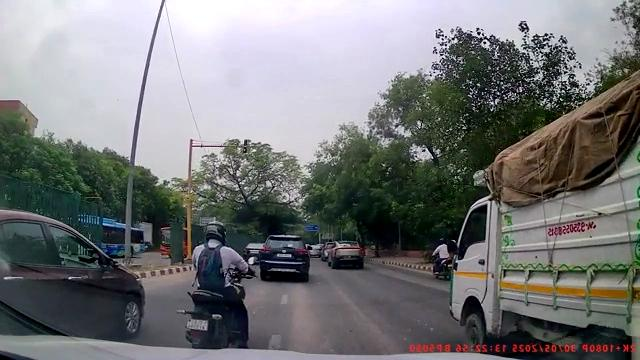motorcycle_with_helmet: (182, 220, 254, 347), (432, 236, 454, 280)
